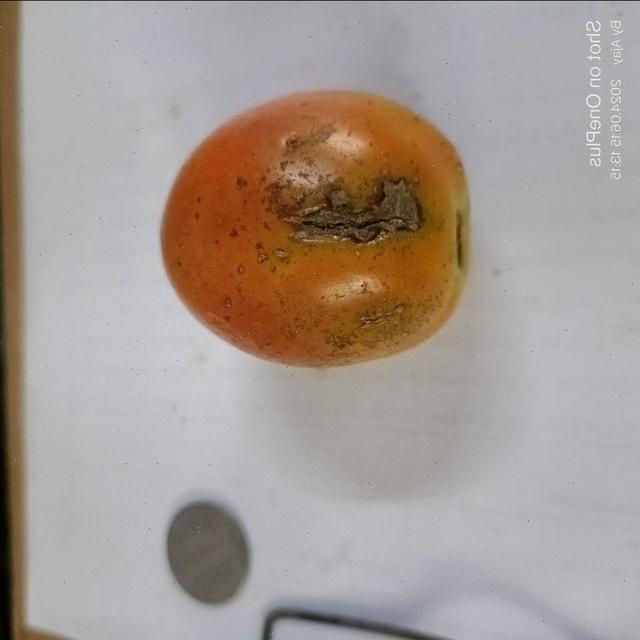Bacterial Spot Fruit: (177, 112, 281, 160)
